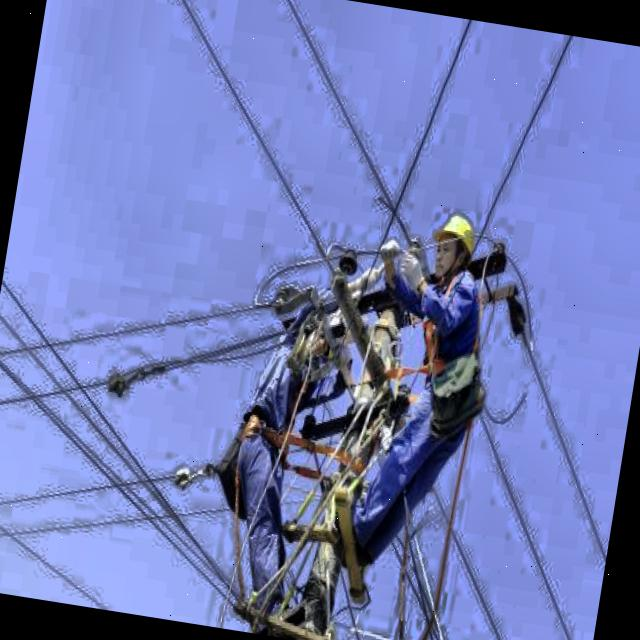helmet: (428, 206, 483, 284)
